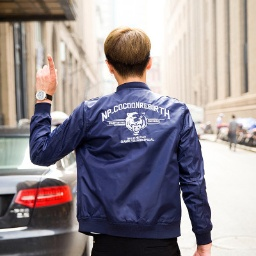face: (103, 26, 156, 84)
